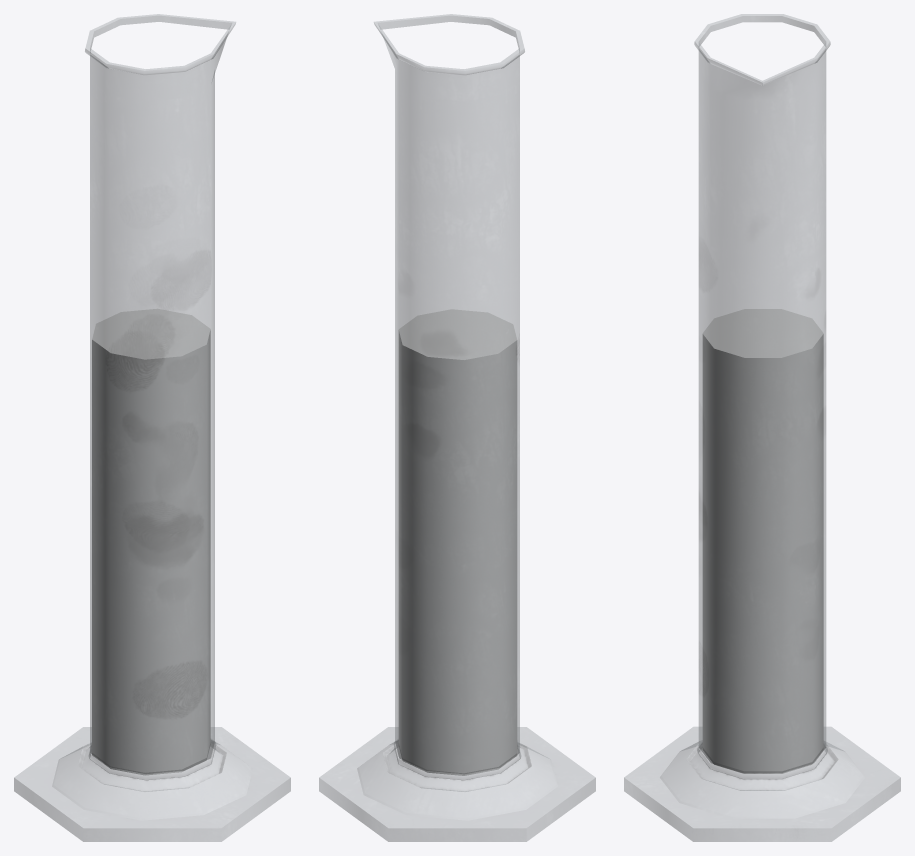
Rendered from GraduatedCylinderPBR.glb.
3 renders of one model, left to right at view 1: azimuth 30°, elevation 25°; view 2: azimuth 150°, elevation 25°; view 3: azimuth 270°, elevation 25°, orthographic.
Visible parts, largest first — view 1: BeakerwOpacity, BeakerLiquid; view 2: BeakerwOpacity, BeakerLiquid; view 3: BeakerwOpacity, BeakerLiquid.
Boxes of the visible parts, box(x1,y1,x2,y2) form: BeakerwOpacity: box(14, 14, 290, 841); BeakerLiquid: box(92, 308, 210, 775); BeakerwOpacity: box(319, 14, 595, 841); BeakerLiquid: box(398, 309, 517, 775); BeakerwOpacity: box(624, 14, 900, 841); BeakerLiquid: box(702, 309, 823, 773).
Bounding box in the file's own units: 1.73 × 5.97 × 2.
2 materials, 1 textured.
